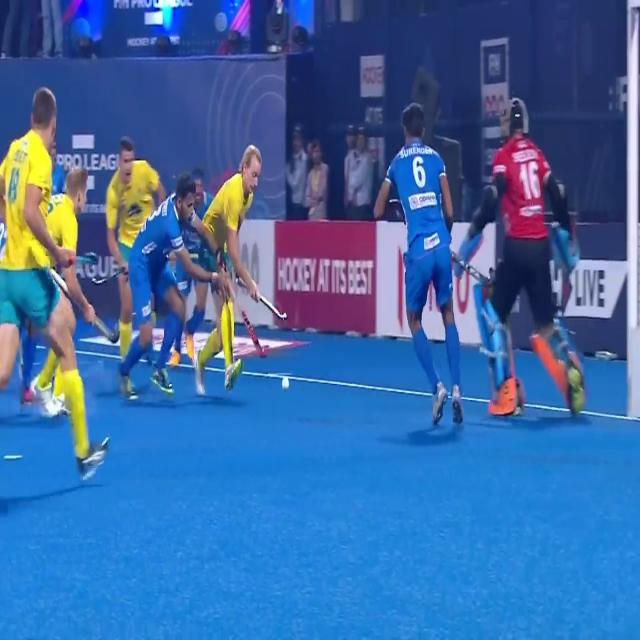ball: (275, 362, 298, 403)
